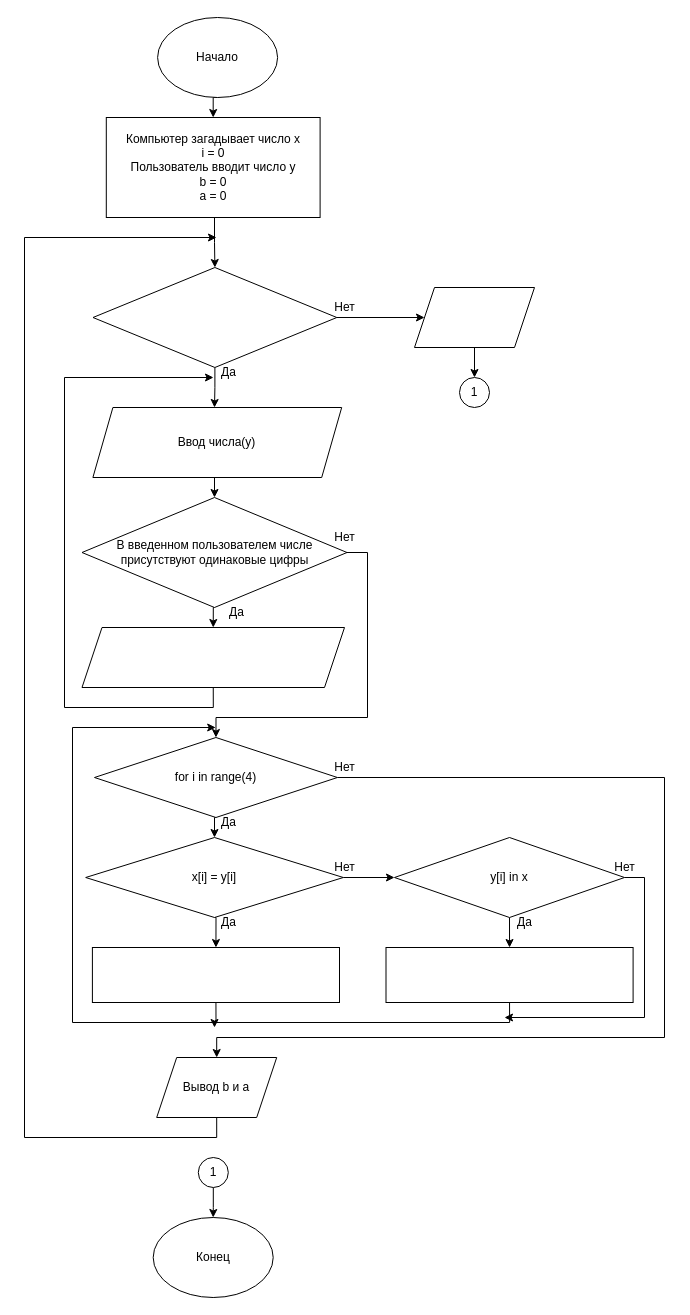
Image size: 690x1315. Some labels were removed from this diagram. Each missing label, with the centre of its shape:
"В вашем числе присутствуют одинаковые цифры, исправьте его": pixel 212 657
"Вы выиграли!": pixel 474 317
a = a + 1: pixel 509 974
b = b + 1: pixel 215 974
y не равно x: pixel 214 317
